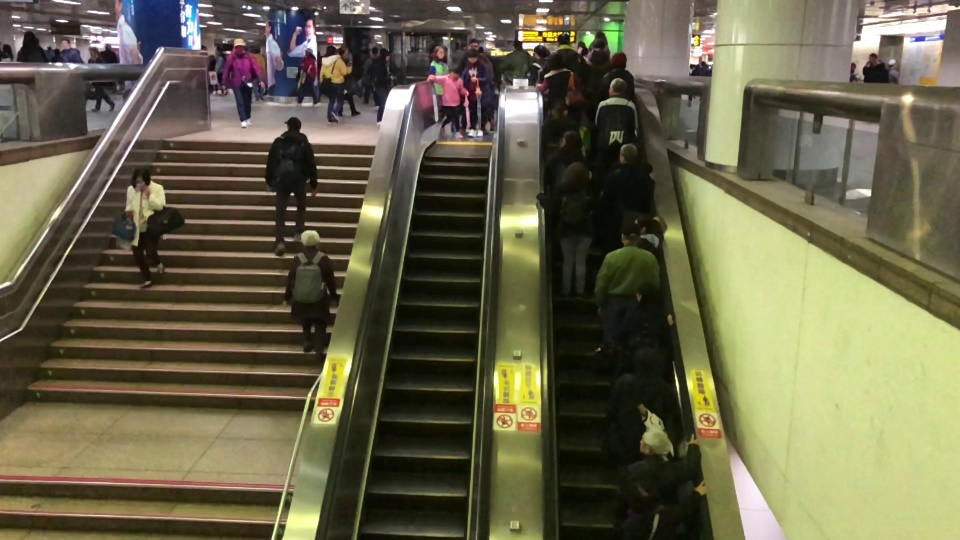person_head: (642, 466, 678, 505), (632, 346, 666, 380), (639, 428, 670, 458), (562, 162, 589, 187), (616, 404, 641, 429), (634, 282, 659, 307), (620, 220, 640, 248), (299, 228, 321, 251), (559, 130, 582, 151), (131, 166, 151, 189), (640, 218, 662, 238), (618, 143, 637, 165), (607, 77, 627, 97), (550, 99, 569, 119), (546, 51, 564, 71), (610, 51, 627, 72), (283, 116, 302, 134), (21, 30, 38, 48), (532, 44, 549, 61), (556, 33, 571, 49), (465, 47, 479, 64), (466, 38, 480, 54), (590, 38, 606, 51), (432, 44, 444, 61), (233, 37, 246, 52), (448, 63, 460, 79), (379, 47, 391, 61), (87, 45, 99, 59), (324, 45, 336, 57), (511, 39, 522, 52), (867, 52, 876, 66), (60, 39, 70, 50), (337, 47, 346, 59), (887, 58, 896, 69), (370, 47, 379, 58), (304, 47, 313, 58), (2, 43, 11, 54), (252, 45, 261, 55), (215, 46, 224, 56), (103, 42, 111, 51), (53, 47, 60, 56), (850, 61, 856, 70), (693, 64, 700, 71), (45, 45, 53, 50), (701, 61, 706, 68)
person_vbox: (592, 220, 661, 354), (613, 427, 702, 526), (535, 161, 597, 299), (281, 227, 340, 361), (264, 115, 319, 256), (613, 466, 709, 540), (605, 346, 679, 440), (610, 282, 674, 381), (600, 142, 655, 252), (123, 166, 167, 289), (593, 76, 638, 196), (600, 404, 667, 484), (221, 37, 266, 129), (426, 63, 469, 139), (459, 38, 494, 131), (542, 130, 593, 192), (593, 51, 635, 119), (460, 47, 491, 139), (318, 45, 352, 124), (541, 99, 581, 159), (536, 51, 581, 103), (86, 45, 116, 113), (427, 44, 449, 131), (337, 47, 361, 116), (556, 32, 588, 81), (370, 47, 390, 124), (497, 40, 531, 85), (295, 47, 319, 107), (636, 218, 661, 262), (361, 47, 379, 107), (15, 30, 48, 62), (583, 38, 610, 76), (99, 42, 118, 94), (526, 44, 549, 84), (861, 51, 888, 84), (250, 45, 266, 100), (60, 38, 84, 63), (687, 63, 700, 108), (214, 46, 225, 96), (886, 58, 900, 85), (49, 47, 69, 62), (848, 61, 861, 82), (0, 43, 13, 62), (699, 60, 708, 77), (44, 44, 53, 59)
